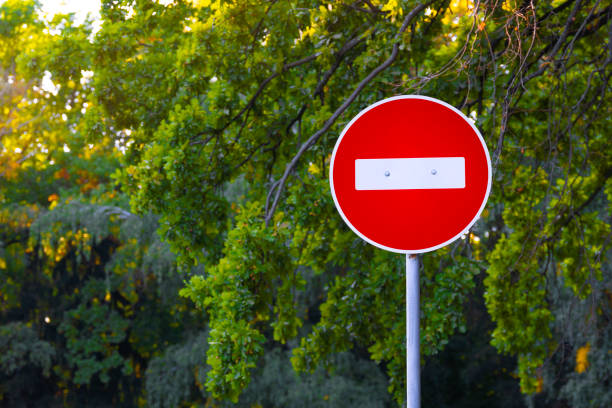Girilmez: (329, 96, 495, 253)
